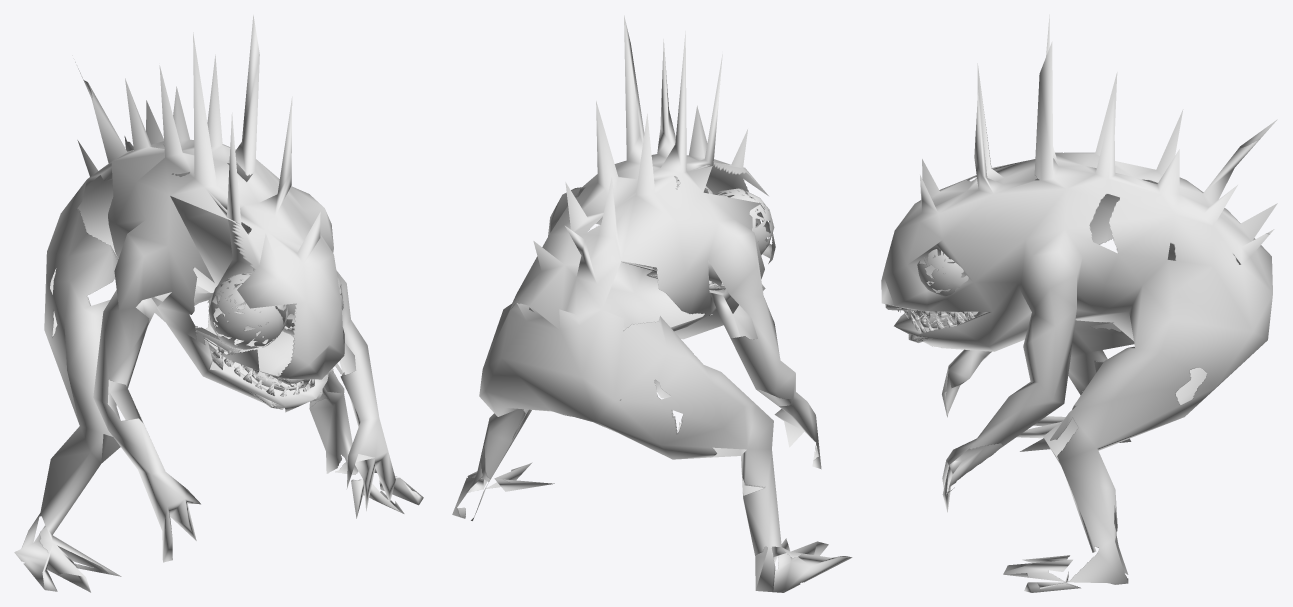
The model's file is enemy.fbx.
3 views of the same model, side by side, from view 1: azimuth 30°, elevation 25°; view 2: azimuth 150°, elevation 25°; view 3: azimuth 270°, elevation 25° (orthographic). The views are drawn at different scales.
Parts seen in each view (by area): view 1: murloc_murloc1; view 2: murloc_murloc1; view 3: murloc_murloc1.
Part boxes in pixels (x1,y1,x2,y2): murloc_murloc1: (14,15,423,592); murloc_murloc1: (452,15,852,592); murloc_murloc1: (881,14,1277,592).
Size of the model in its own units: 1.78 by 2.31 by 1.72.
Materials: 1 (1 with a texture image).
